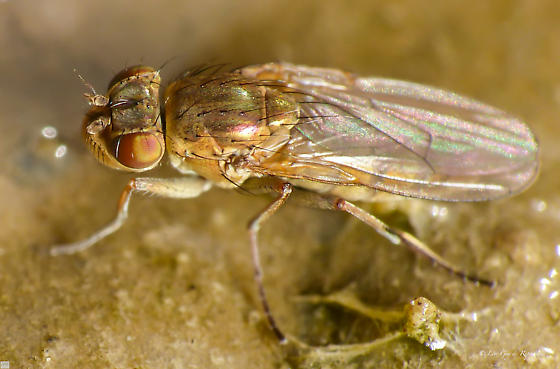Ephydridae: (50, 55, 544, 343)
